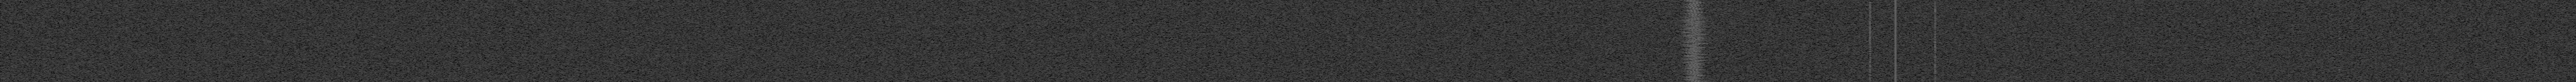wv_cw: (1894, 0, 1897, 82)
wv_lsb: (1868, 2, 1873, 82), (1934, 0, 1937, 82)
wv_usb: (2338, 33, 2341, 49), (2338, 62, 2341, 74), (2338, 3, 2341, 13), (2338, 25, 2341, 33), (2338, 77, 2341, 80), (2338, 52, 2341, 56), (2338, 18, 2341, 21), (2338, 57, 2341, 59)
wv_wbfm: (1677, 0, 1712, 82)
